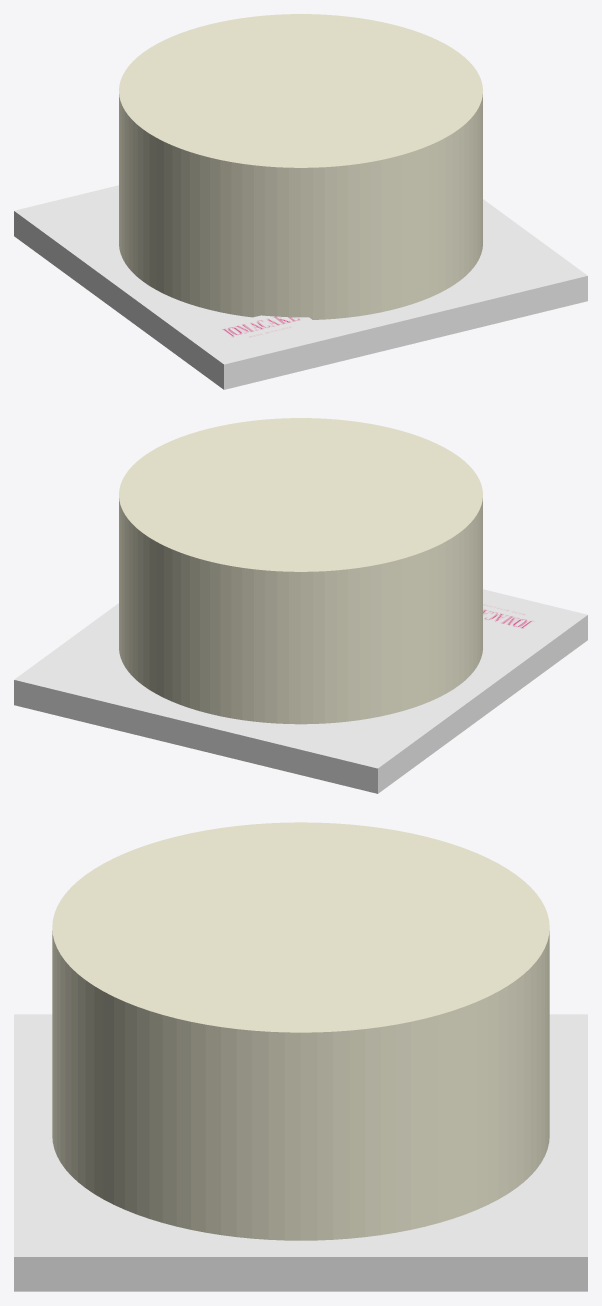
The model's file is cake_10in_layers3_v34.glb.
The picture shows the model from 3 angles, top to bottom: view 1: azimuth 30°, elevation 25°; view 2: azimuth 150°, elevation 25°; view 3: azimuth 270°, elevation 25°; orthographic projection. The views are drawn at different scales.
Visible parts, largest first — view 1: Cake, Board, Logo; view 2: Cake, Board, Logo; view 3: Cake, Board.
Boxes of the visible parts, x1,y1,x2,y2 form: Cake: [119, 14, 482, 319]; Board: [14, 185, 587, 389]; Logo: [208, 315, 320, 346]; Cake: [119, 418, 482, 724]; Board: [14, 589, 587, 793]; Logo: [483, 598, 552, 634]; Cake: [52, 822, 549, 1240]; Board: [14, 1014, 587, 1291].
Bounding box in the file's own units: 0.3 × 0.14 × 0.3.
